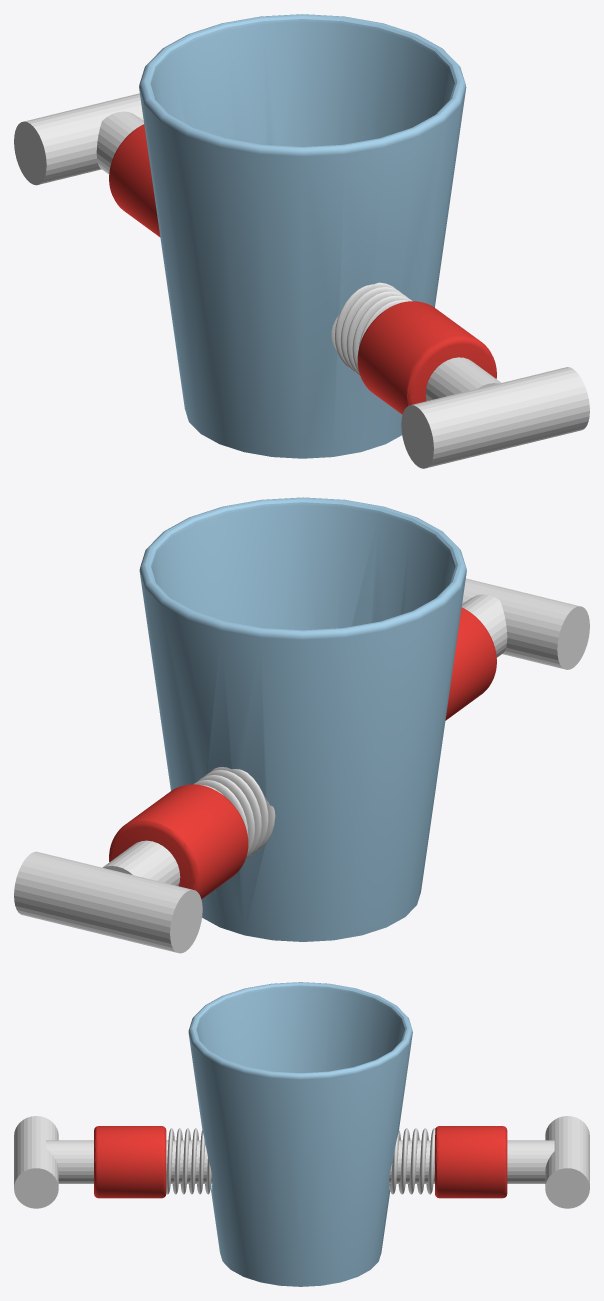
Rendered from juicemachine.fbx.
3 renders of one model, top to bottom at view 1: azimuth 30°, elevation 25°; view 2: azimuth 150°, elevation 25°; view 3: azimuth 270°, elevation 25°, orthographic. The views are drawn at different scales.
Parts seen in each view (by area): view 1: glass, two side, L-push, R-push, L_spring; view 2: glass, two side, R-push, L-push, R-spring; view 3: glass, two side, L-push, R-push, R-spring, L_spring.
Part boxes in pixels (left/top/right/bottom): glass: left=139, top=14, right=466, bottom=458; two side: left=14, top=93, right=589, bottom=468; L-push: left=357, top=301, right=496, bottom=414; R-push: left=109, top=124, right=160, bottom=236; L_spring: left=331, top=282, right=412, bottom=376; glass: left=139, top=497, right=466, bottom=941; two side: left=14, top=578, right=589, bottom=953; R-push: left=109, top=784, right=248, bottom=899; L-push: left=445, top=607, right=496, bottom=720; R-spring: left=193, top=767, right=275, bottom=859; glass: left=188, top=982, right=412, bottom=1286; two side: left=14, top=1116, right=589, bottom=1208; L-push: left=94, top=1126, right=166, bottom=1198; R-push: left=435, top=1126, right=507, bottom=1198; R-spring: left=389, top=1128, right=435, bottom=1194; L_spring: left=166, top=1128, right=211, bottom=1194.
Size of the model in its own units: 154 by 170 by 395.
